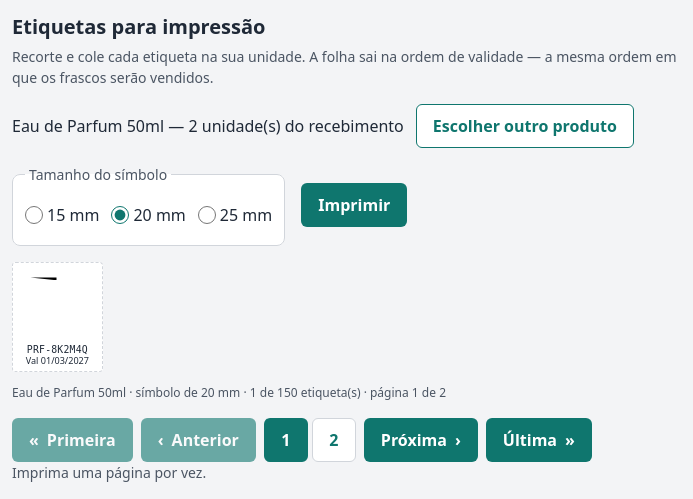
it: TelaEtiquetas (RF04) › a segunda página é uma nova busca, e imprime-se uma página por vez
Expected: the text "PRF-8K2M4Q" is shown, [27,344,88,355]
Expected: the text "Imprima uma página por vez." is shown, [12,463,206,482]
Click the button "Próxima ›". click: coordinates (421, 440)
box: [364,418,478,462]
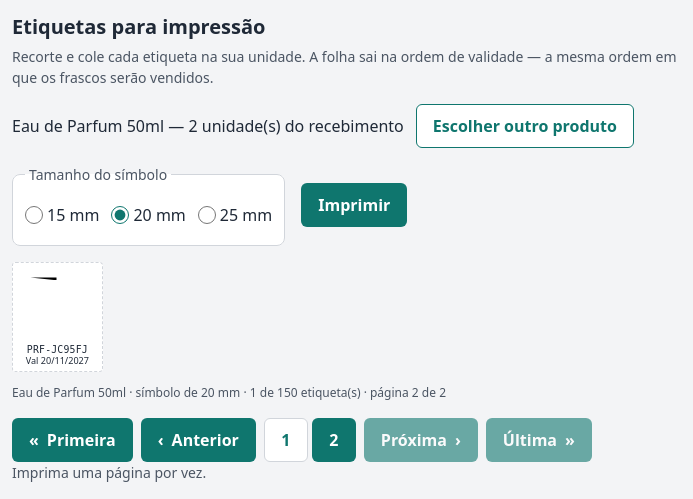
Expected: the text "PRF-JC95FJ" is shown, [27,344,88,355]
